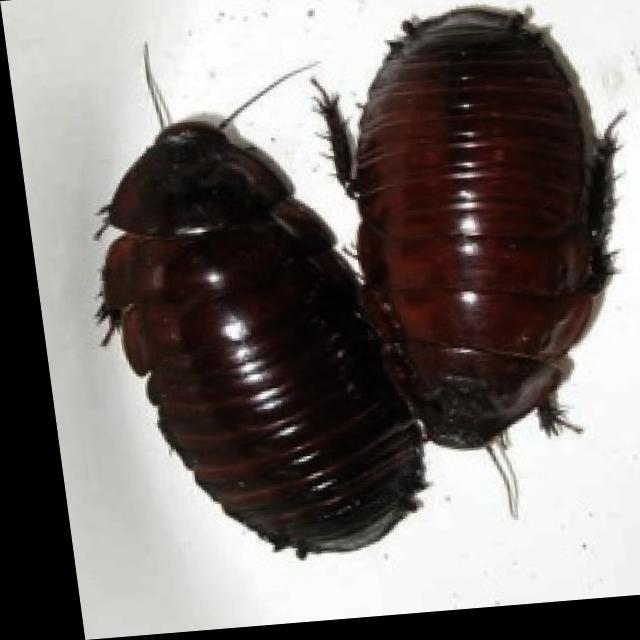cockroach: (78, 101, 439, 583), (314, 4, 628, 476)
